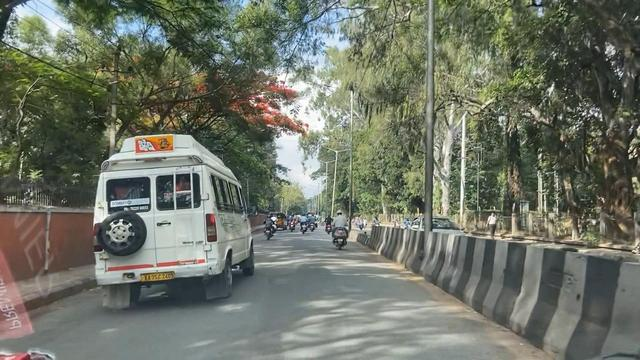HMV: (95, 160, 220, 297)
LMV: (335, 211, 346, 247), (261, 215, 275, 237), (301, 210, 306, 234)
